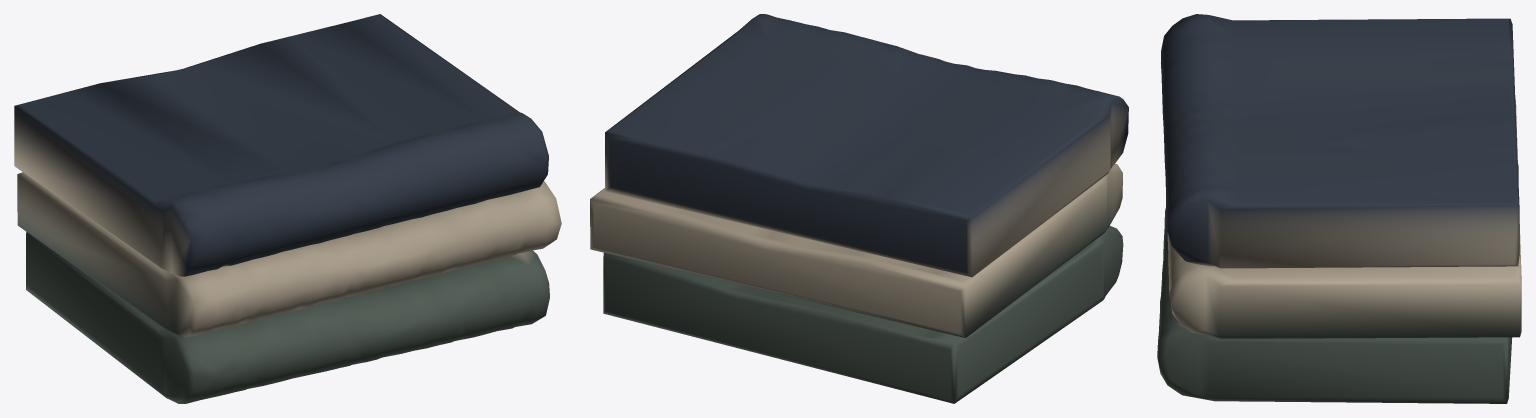
Rendered from fold-ribbed-lightweight-e099ffca6d.glb.
3 renders of one model, left to right at view 1: azimuth 30°, elevation 25°; view 2: azimuth 150°, elevation 25°; view 3: azimuth 270°, elevation 25°, orthographic. The views are drawn at different scales.
Parts seen in each view (by area): view 1: fold-ribbed; view 2: fold-ribbed; view 3: fold-ribbed.
Boxes of the visible parts, box(x1,y1,x2,y2) form: fold-ribbed: box(14, 14, 561, 403); fold-ribbed: box(590, 14, 1128, 403); fold-ribbed: box(1157, 14, 1521, 403).
Size of the model in its own units: 0.3148 by 0.1568 by 0.2491.
